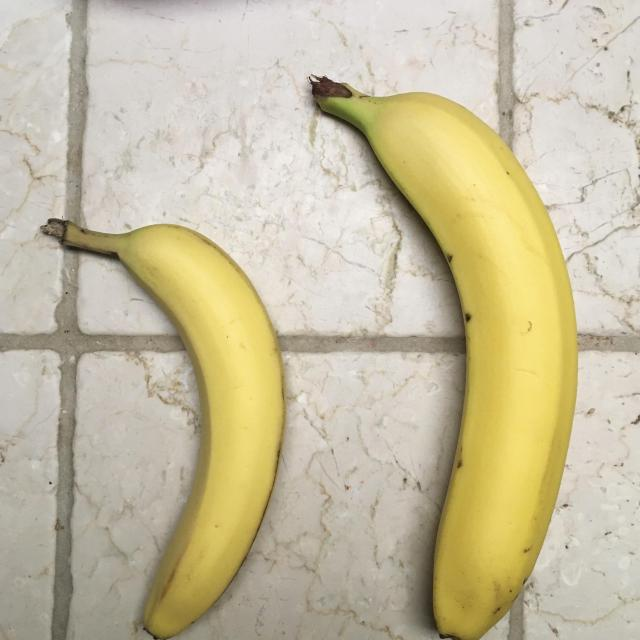Banana: (314, 72, 575, 640), (39, 212, 287, 640)
